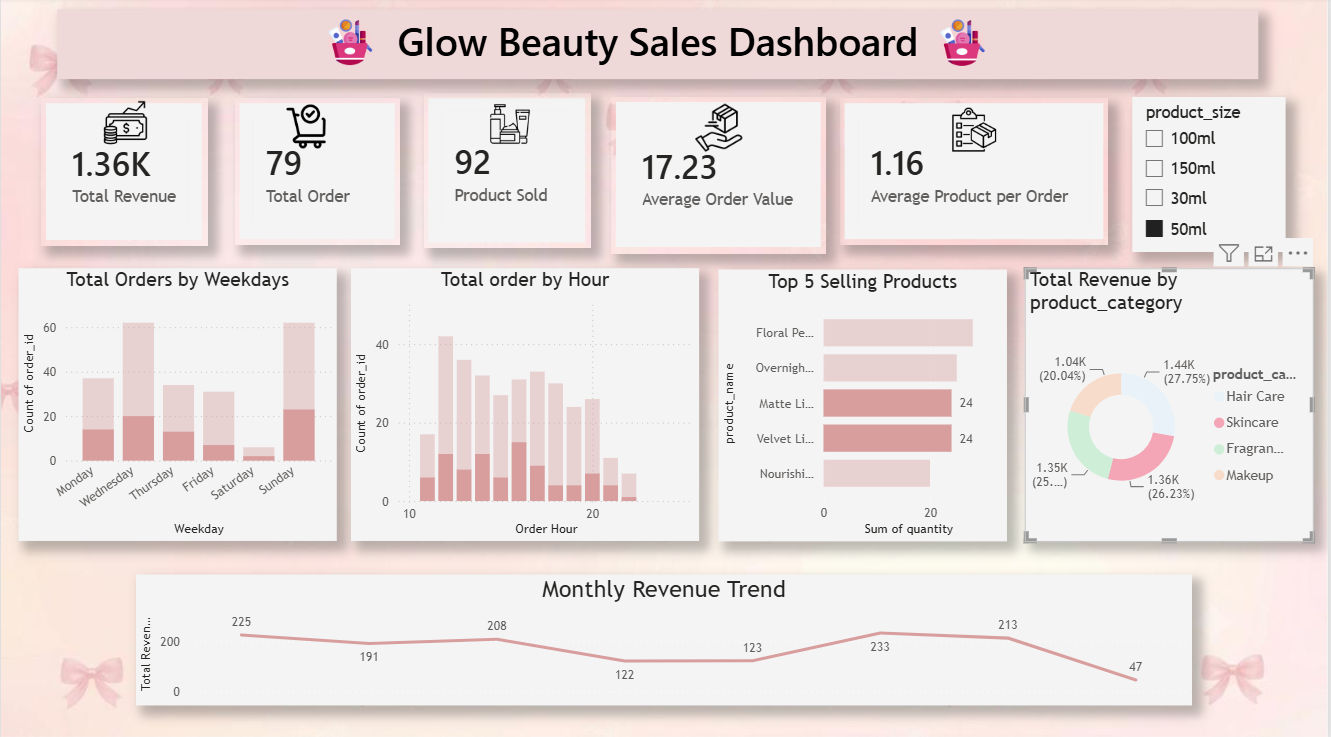

Layout of this report page (visuals, bound fields, positions):
{"tool":"powerbi","page":{"name":"Page 1","canvas":[1280,720],"ordinal":0},"visuals":[{"type":"cardVisual","fields":{"Data":["Sheet1.Total Revenue"]},"box":[38.4,97.4,160.5,142.7],"z":0},{"type":"cardVisual","fields":{"Data":["Sheet1.Total Order"]},"box":[225,97.4,159.2,141.3],"z":1000},{"type":"cardVisual","fields":{"Data":["Sheet1.Product Sold"]},"box":[407.5,93.3,161.9,149.6],"z":2000},{"type":"cardVisual","fields":{"Data":["Sheet1.Average Order Value"]},"box":[588.7,96.1,207.2,150.9],"z":3000},{"type":"cardVisual","fields":{"Data":["Sheet1.Average Product per Order"]},"box":[809.6,97.4,259.3,141.3],"z":4000},{"type":"textbox","box":[54.9,12.3,1159.5,67.2],"z":5000},{"type":"clusteredColumnChart","title":"Total Orders by Weekdays","fields":{"Category":["Sheet1.Weekday"],"Y":["Count(Sheet1.order_id)"]},"box":[16.5,262.1,307.4,263.5],"z":6000},{"type":"clusteredColumnChart","title":"Total order by Hour","fields":{"Category":["Sheet1.Order Hour"],"Y":["CountNonNull(Sheet1.order_id)"]},"box":[337.6,262.1,336.2,263.5],"z":7000},{"type":"clusteredBarChart","title":"Top 5 Selling Products","fields":{"Category":["Sheet1.product_name"],"Y":["Sum(Sheet1.quantity)"]},"box":[693,263.5,278.6,262.1],"z":8000},{"type":"slicer","fields":{"Values":["Sheet1.product_size"]},"box":[1092.3,96.1,148.2,149.6],"z":9000},{"type":"lineChart","title":"Monthly Revenue Trend","fields":{"Category":["Sheet1.order_date.Variation.Date Hierarchy.Month","Sheet1.order_date.Variation.Date Hierarchy.Day"],"Y":["Sheet1.Total Revenue"]},"box":[130.4,557.1,1019.6,126.2],"z":10000},{"type":"donutChart","fields":{"Category":["Sheet1.product_category"],"Y":["Sheet1.Total Revenue"]},"box":[988,262.1,278.6,263.5],"z":10001},{"type":"image","box":[264.8,22,142.7,43.9],"z":10002},{"type":"image","box":[98.8,97.4,42.5,46.7],"z":10004},{"type":"image","box":[447.3,101.5,87.8,42.5],"z":10005},{"type":"image","box":[918,79.6,42.5,97.4],"z":10006},{"type":"image","box":[661.4,101.5,63.1,49.4],"z":10008},{"type":"image","box":[856.6,21.7,142.4,44.6],"z":10009},{"type":"image","box":[238.8,104.3,111.1,42.5],"z":10010}]}

Visuals, with their boxes in screenshot pixels (x1, y1, x2, y2), scaled from the page's 1280x720 canvas onto the 1331x737 screenshot:
cardVisual - Sheet1.Total Revenue: [left=40, top=100, right=207, bottom=246]
cardVisual - Sheet1.Total Order: [left=234, top=100, right=400, bottom=244]
cardVisual - Sheet1.Product Sold: [left=424, top=96, right=592, bottom=249]
cardVisual - Sheet1.Average Order Value: [left=612, top=98, right=828, bottom=253]
cardVisual - Sheet1.Average Product per Order: [left=842, top=100, right=1111, bottom=244]
textbox: [left=57, top=13, right=1263, bottom=81]
"Total Orders by Weekdays" clusteredColumnChart: [left=17, top=268, right=337, bottom=538]
"Total order by Hour" clusteredColumnChart: [left=351, top=268, right=701, bottom=538]
"Top 5 Selling Products" clusteredBarChart: [left=721, top=270, right=1010, bottom=538]
slicer - Sheet1.product_size: [left=1136, top=98, right=1290, bottom=252]
"Monthly Revenue Trend" lineChart: [left=136, top=570, right=1196, bottom=699]
donutChart - Sheet1.product_category x Sheet1.Total Revenue: [left=1027, top=268, right=1317, bottom=538]
image: [left=275, top=23, right=424, bottom=67]
image: [left=103, top=100, right=147, bottom=148]
image: [left=465, top=104, right=556, bottom=147]
image: [left=955, top=81, right=999, bottom=181]
image: [left=688, top=104, right=753, bottom=154]
image: [left=891, top=22, right=1039, bottom=68]
image: [left=248, top=107, right=364, bottom=150]
